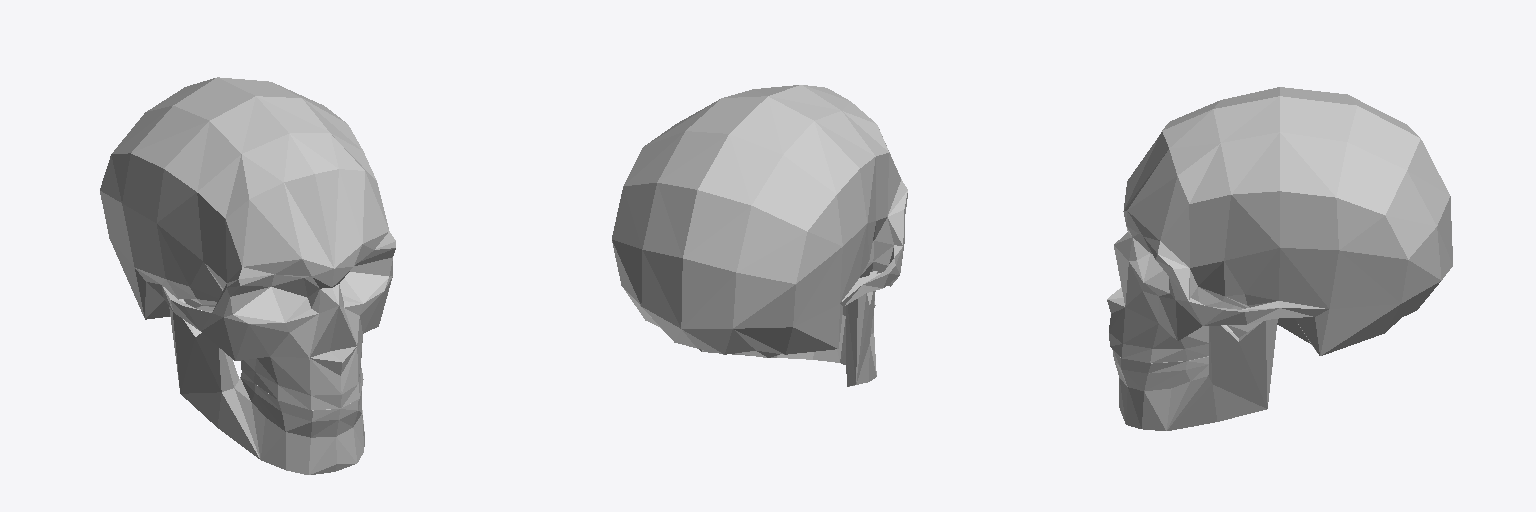
Rendered from low-poly_skull.obj.
3 views of the same model, side by side, from view 1: azimuth 30°, elevation 25°; view 2: azimuth 150°, elevation 25°; view 3: azimuth 270°, elevation 25° (orthographic).
Parts seen in each view (by area): view 1: Cube_0, Cube.001_0; view 2: Cube_0, Cube.001_0; view 3: Cube_0, Cube.001_0.
Part boxes in pixels (x1,y1,x2,y2): Cube_0: (100,77,395,409); Cube.001_0: (169,299,364,474); Cube_0: (612,85,907,357); Cube.001_0: (699,271,877,386); Cube_0: (1107,87,1452,362); Cube.001_0: (1112,306,1277,430).
Size of the model in its own units: 1.36 by 1.99 by 1.95.